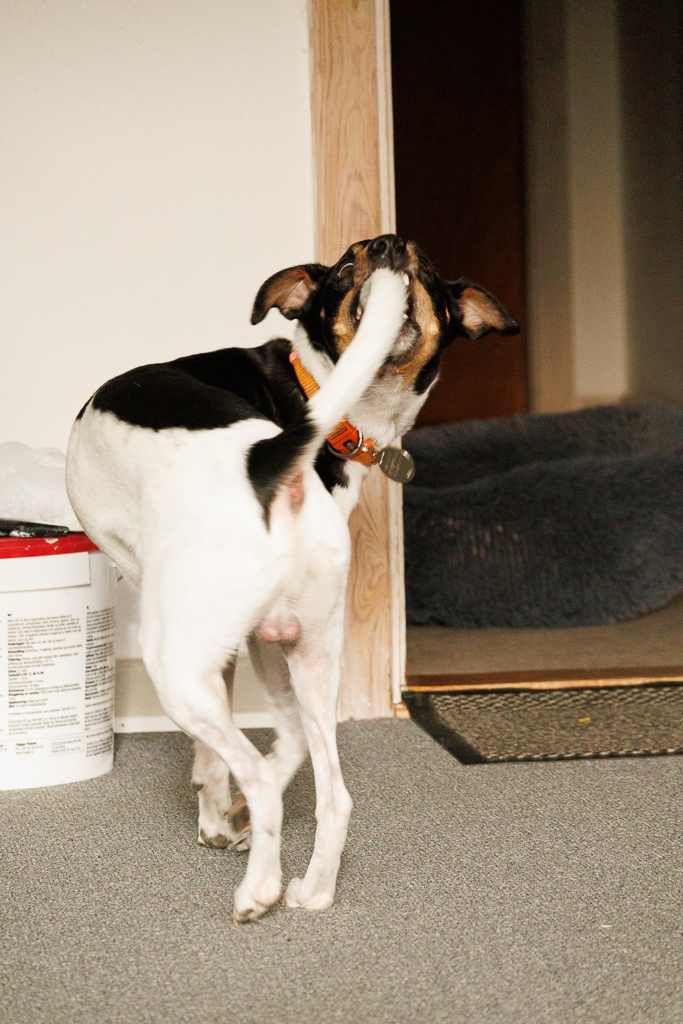Dog: (53, 224, 534, 938)
